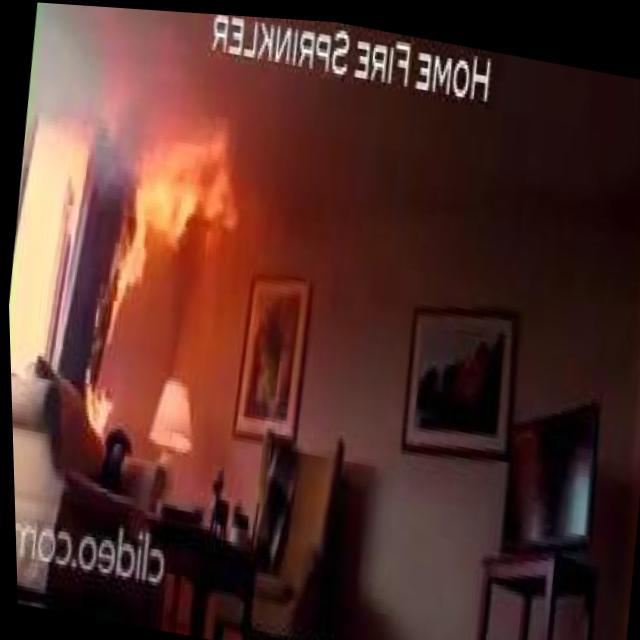fire: (107, 90, 264, 304), (77, 226, 146, 430), (57, 79, 98, 196)
